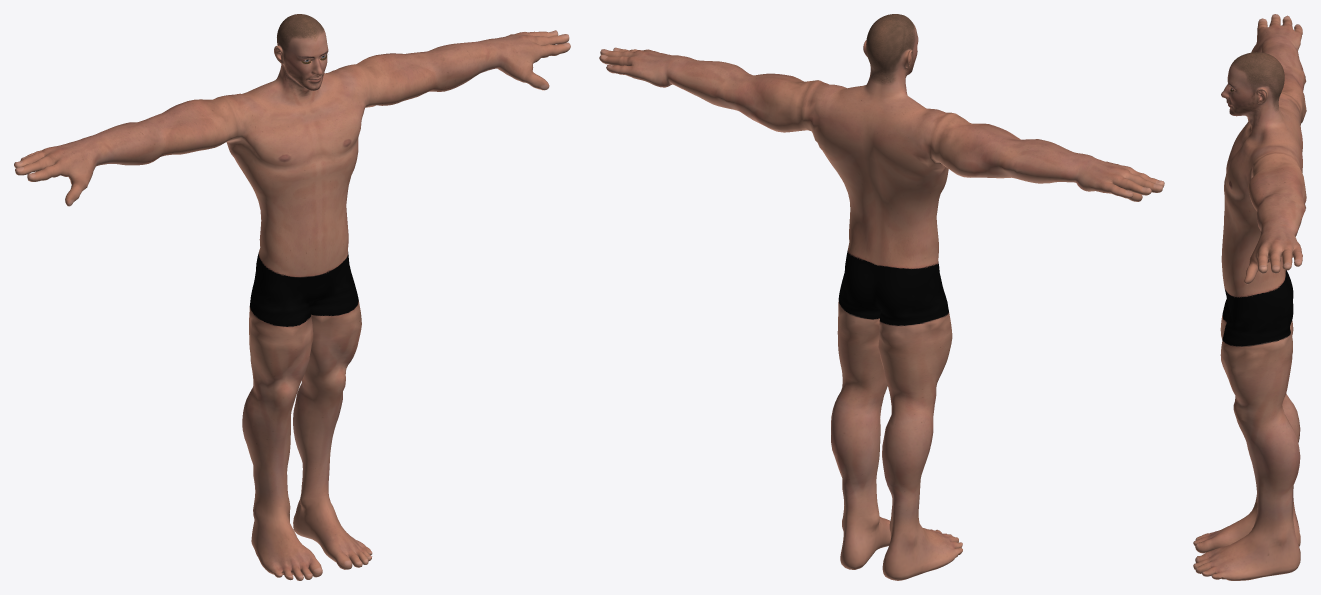
3 renders of one model, left to right at view 1: azimuth 30°, elevation 25°; view 2: azimuth 150°, elevation 25°; view 3: azimuth 270°, elevation 25°, orthographic. The views are drawn at different scales.
Visible parts, largest first — view 1: Body Mesh; view 2: Body Mesh; view 3: Body Mesh.
Boxes of the visible parts, x1,y1,x2,y2 form: Body Mesh: (14, 14, 570, 580); Body Mesh: (599, 14, 1164, 580); Body Mesh: (1193, 14, 1306, 580).
Size of the model in its own units: 2.45 by 2.27 by 0.4593.
3 materials, 3 textured.
